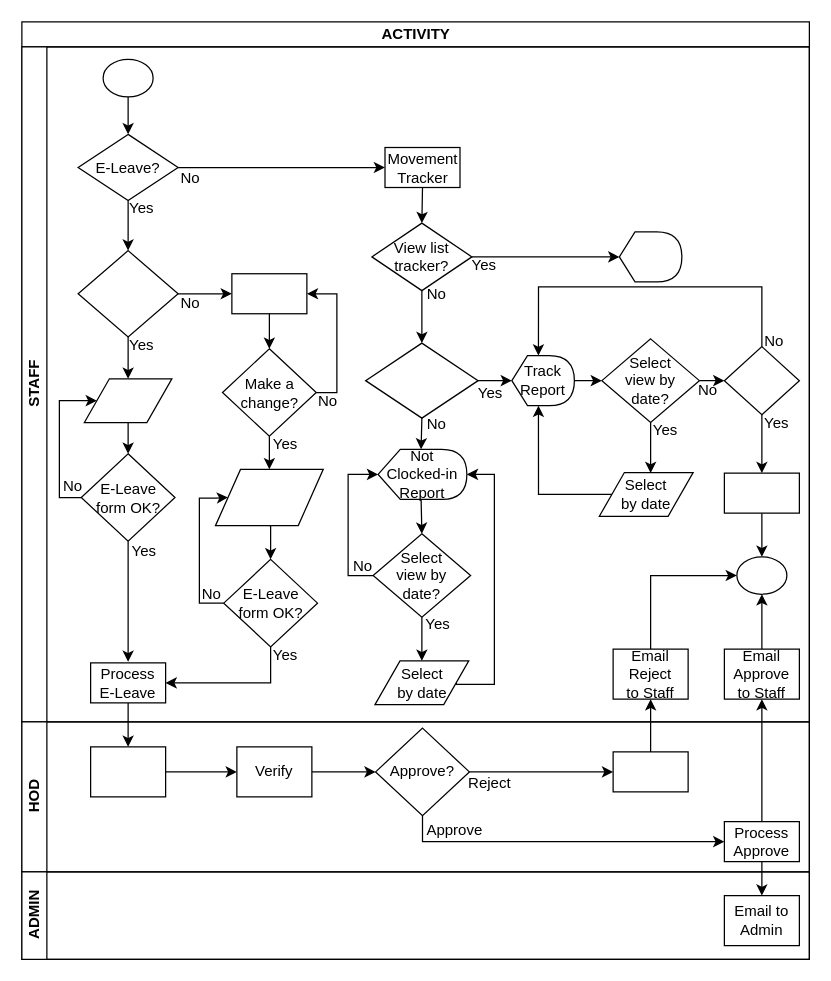
Some shapes in this 831 by 981 pixel diagram are drawn without their labels. Each missing label, with the box of its shape:
Change E-Leave details: (214, 468, 323, 526)
Email to HOD: (89, 746, 166, 797)
End: (736, 556, 787, 594)
List Tracker: (618, 231, 682, 282)
My Leave: (231, 272, 307, 314)
Print: (723, 472, 799, 513)
Print report?: (723, 345, 799, 415)
Process Reject: (612, 751, 688, 792)
Register: (83, 378, 172, 422)
Register E-Leave?: (77, 249, 178, 337)
Start: (102, 58, 153, 97)
View track report?: (364, 342, 478, 418)
